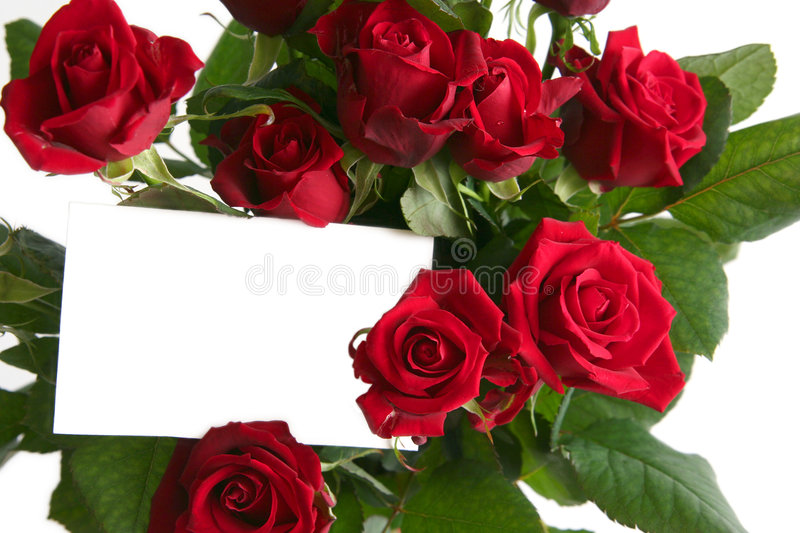RedRose: (505, 197, 682, 414), (4, 7, 199, 182), (321, 1, 476, 191), (358, 259, 509, 445), (145, 408, 347, 533), (576, 21, 712, 202), (217, 67, 348, 237)
